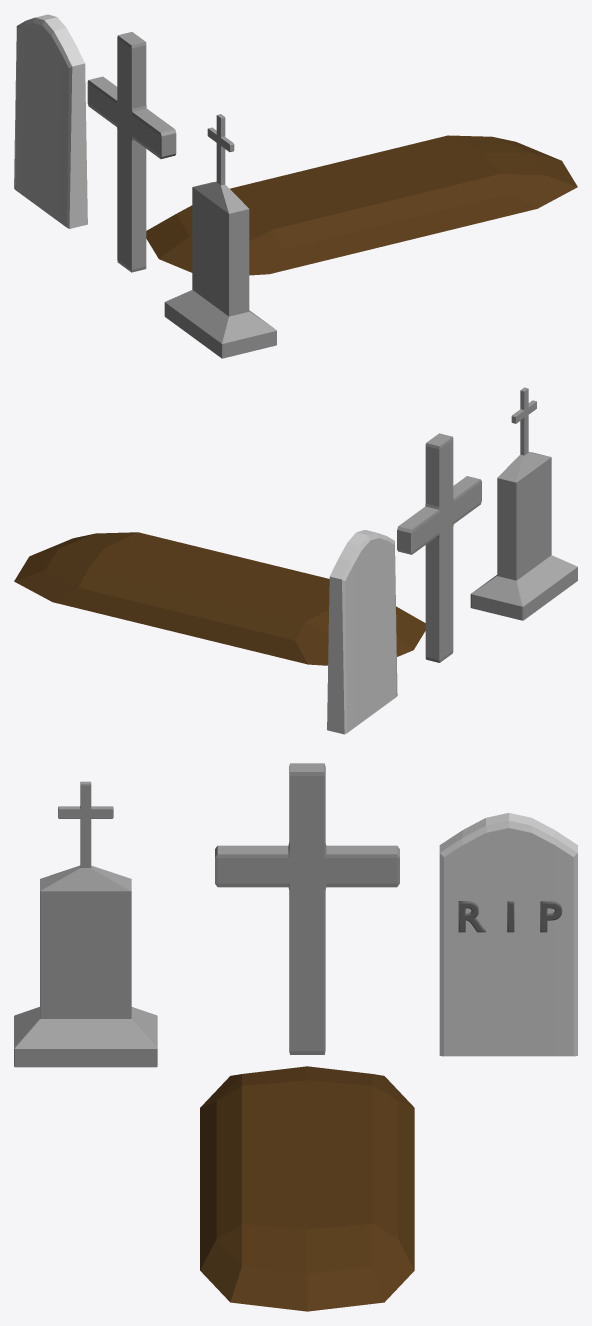
The model's file is Tombstones.fbx.
3 views of the same model, one above another, from view 1: azimuth 30°, elevation 25°; view 2: azimuth 150°, elevation 25°; view 3: azimuth 270°, elevation 25° (orthographic). The views are drawn at different scales.
Visible parts, largest first — view 1: Cube.002, Cube.001, Cube.003, Cube; view 2: Cube.002, Cube.001, Cube.003, Cube; view 3: Cube.002, Cube.001, Cube.003, Cube.
Part boxes in pixels (<box>): Cube.002: <box>146,135,577,275</box>; Cube.001: <box>14,14,87,228</box>; Cube.003: <box>164,114,276,358</box>; Cube: <box>87,32,176,272</box>; Cube.002: <box>14,532,425,665</box>; Cube.001: <box>327,530,397,734</box>; Cube.003: <box>470,387,577,620</box>; Cube: <box>397,433,481,662</box>; Cube.002: <box>200,1066,414,1311</box>; Cube.001: <box>439,813,577,1056</box>; Cube.003: <box>14,781,157,1067</box>; Cube: <box>215,763,399,1054</box>.
Size of the model in its own units: 3264 by 1548 by 2799.
